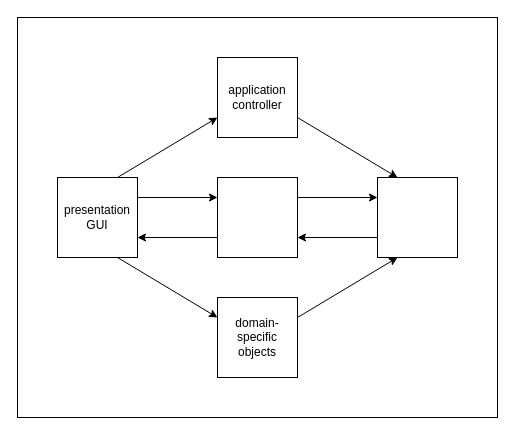
Some shapes in this 515 by 435 pixel diagram are drawn without their labels. Here are the shapes that lost their labels. From the top down, the centre of each, then its label:
At pixel 257 217: "business logic".
At pixel 417 217: "persistent storage".
